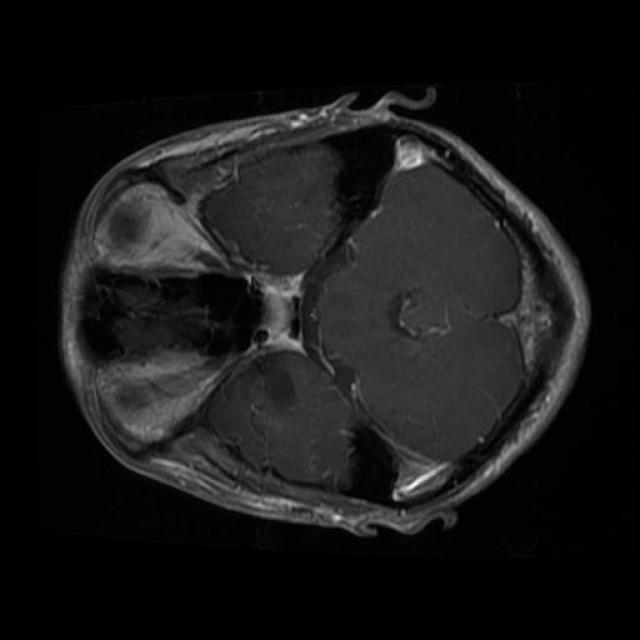Glioma: (253, 353, 305, 409)
